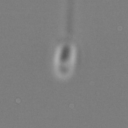normal: (52, 1, 81, 38)
